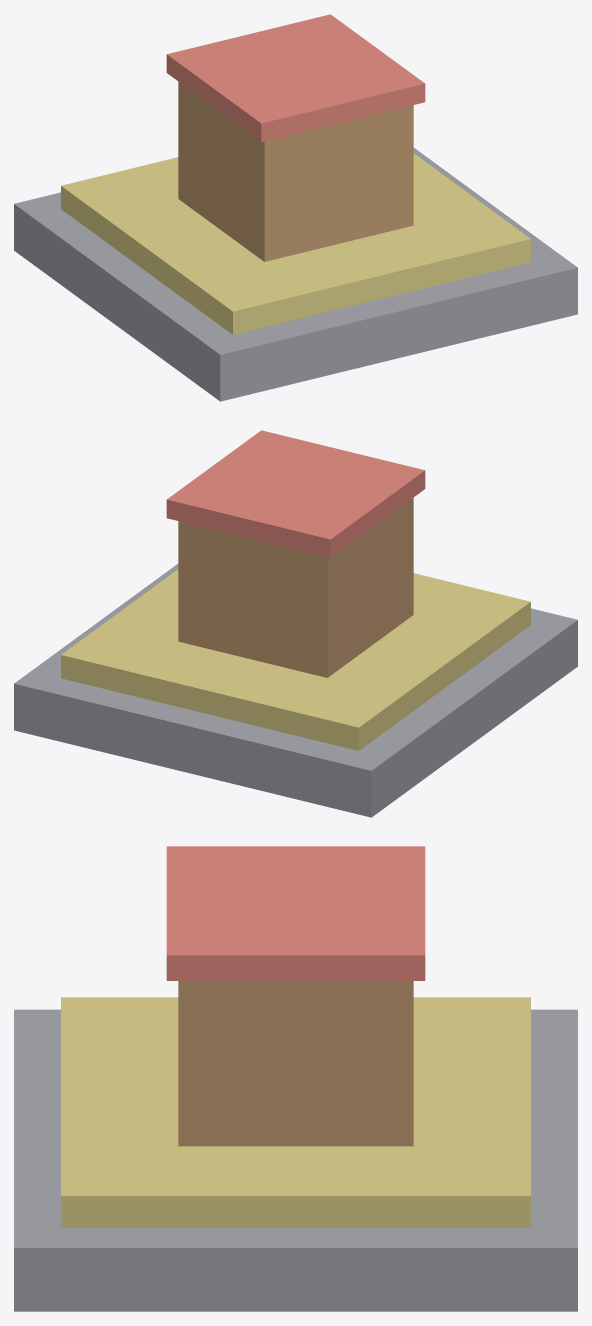
Rendered from turntable.gltf.
3 views of the same model, one above another, from view 1: azimuth 30°, elevation 25°; view 2: azimuth 150°, elevation 25°; view 3: azimuth 270°, elevation 25° (orthographic). The views are drawn at different scales.
Visible parts, largest first — view 1: Base, Platform, Crate, Lid; view 2: Base, Platform, Crate, Lid; view 3: Platform, Base, Crate, Lid.
Boxes of the visible parts, left/top/right/bottom form: Base: left=14, top=148, right=577, bottom=401; Platform: left=61, top=153, right=530, bottom=334; Crate: left=178, top=82, right=413, bottom=261; Lid: left=166, top=14, right=425, bottom=141; Base: left=14, top=564, right=577, bottom=817; Platform: left=61, top=569, right=530, bottom=750; Crate: left=178, top=498, right=413, bottom=677; Lid: left=166, top=430, right=425, bottom=557; Platform: left=61, top=997, right=530, bottom=1227; Base: left=14, top=1009, right=577, bottom=1311; Crate: left=178, top=981, right=413, bottom=1146; Lid: left=166, top=846, right=425, bottom=980.
Bounding box in the file's own units: 2.4 × 1.37 × 2.4.
